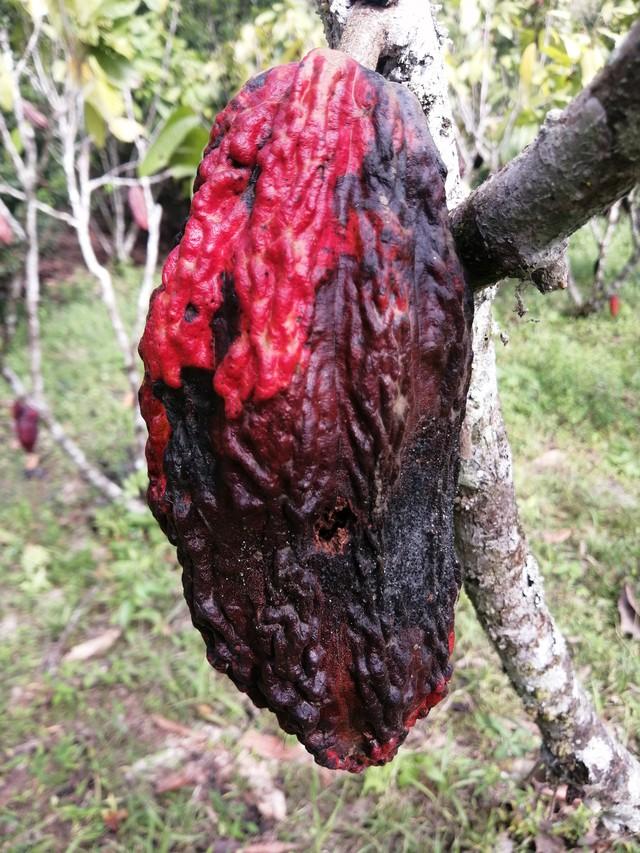carmenta foraseminis: (138, 41, 479, 774)
